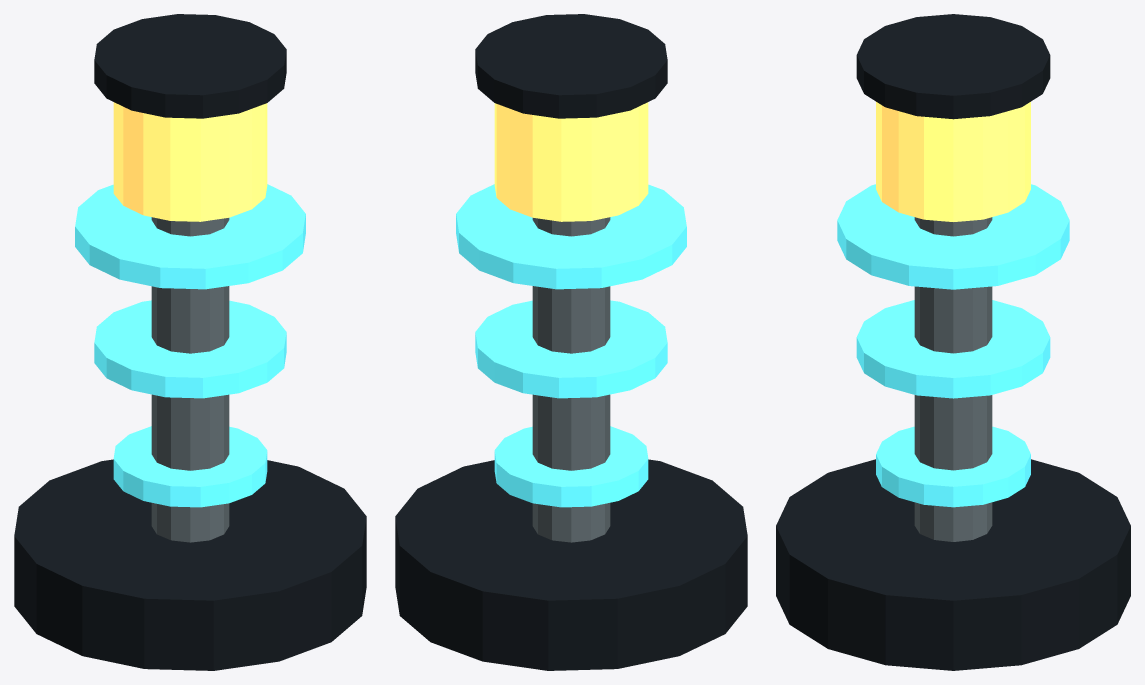
The model's file is extraction_beacon.glb.
3 views of the same model, side by side, from view 1: azimuth 30°, elevation 25°; view 2: azimuth 150°, elevation 25°; view 3: azimuth 270°, elevation 25° (orthographic).
Visible parts, largest first — view 1: BeaconBase, BeaconCap, BeaconLamp, SignalRing.002, BeaconColumn, SignalRing.001, SignalRing; view 2: BeaconBase, BeaconCap, BeaconLamp, SignalRing.002, BeaconColumn, SignalRing.001, SignalRing; view 3: BeaconBase, BeaconCap, BeaconLamp, SignalRing.002, BeaconColumn, SignalRing.001, SignalRing.
Boxes of the visible parts, x1=… form: BeaconBase: x1=14, y1=459, x2=366, y2=670; BeaconCap: x1=94, y1=14, x2=286, y2=118; BeaconLamp: x1=113, y1=102, x2=267, y2=221; SignalRing.002: x1=75, y1=184, x2=305, y2=289; BeaconColumn: x1=151, y1=217, x2=229, y2=542; SignalRing.001: x1=94, y1=300, x2=286, y2=398; SignalRing: x1=113, y1=426, x2=267, y2=507; BeaconBase: x1=395, y1=459, x2=747, y2=670; BeaconCap: x1=475, y1=14, x2=667, y2=118; BeaconLamp: x1=494, y1=102, x2=648, y2=221; SignalRing.002: x1=456, y1=184, x2=686, y2=289; BeaconColumn: x1=532, y1=217, x2=610, y2=542; SignalRing.001: x1=475, y1=300, x2=667, y2=398; SignalRing: x1=494, y1=426, x2=648, y2=507; BeaconBase: x1=776, y1=459, x2=1130, y2=670; BeaconCap: x1=856, y1=14, x2=1050, y2=119; BeaconLamp: x1=876, y1=102, x2=1030, y2=221; SignalRing.002: x1=837, y1=184, x2=1069, y2=289; BeaconColumn: x1=914, y1=217, x2=992, y2=541; SignalRing.001: x1=856, y1=300, x2=1050, y2=398; SignalRing: x1=876, y1=426, x2=1030, y2=507.
Size of the model in its own units: 1.1 by 1.85 by 1.1.
